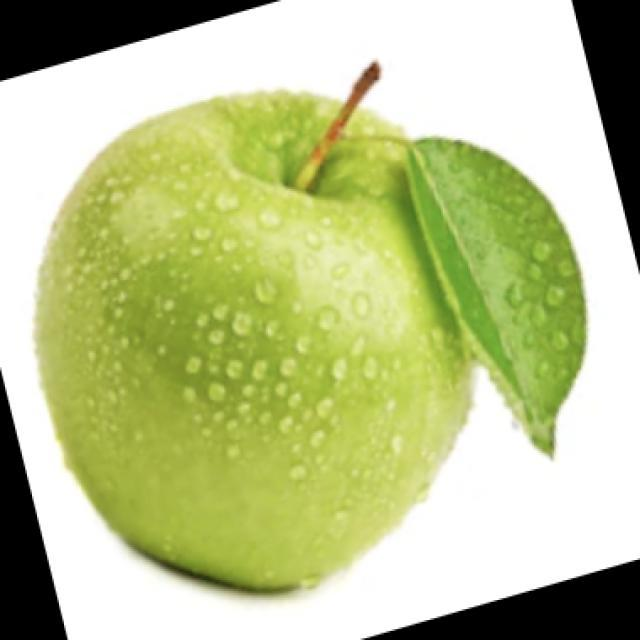Fresh Apple: (42, 90, 445, 582)
